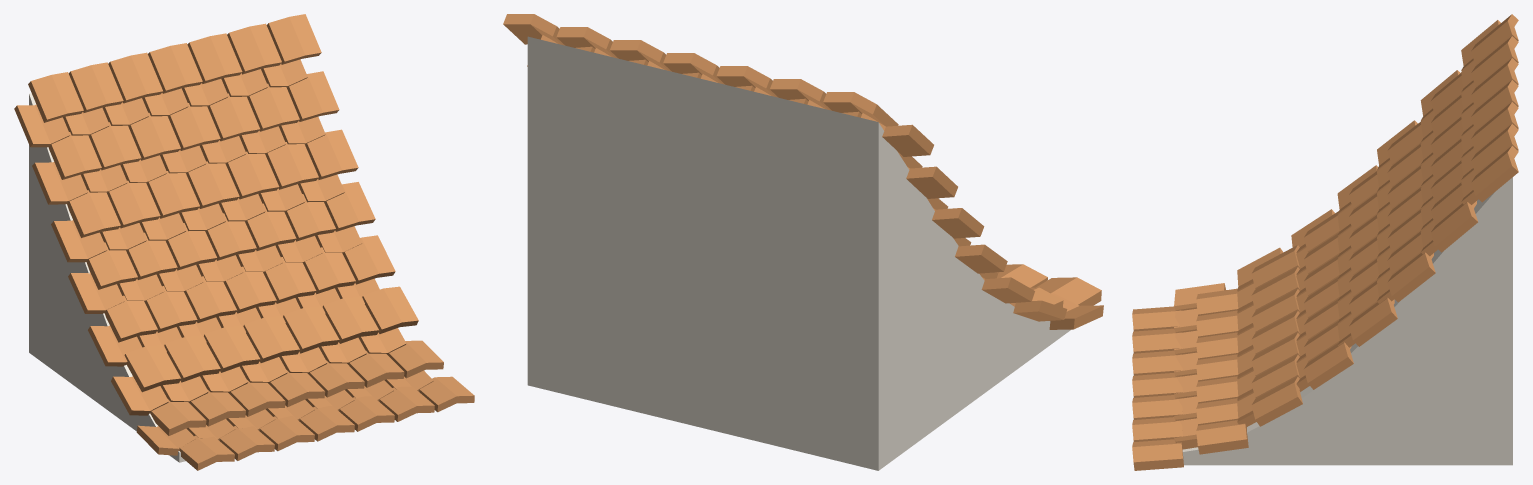
Rendered from RoofEdge.fbx.
3 renders of one model, left to right at view 1: azimuth 30°, elevation 25°; view 2: azimuth 150°, elevation 25°; view 3: azimuth 270°, elevation 25°, orthographic. The views are drawn at different scales.
Parts seen in each view (by area): view 1: Cube, Cube.013, Cube.007, Cube.002, Cube.005, Cube.011, Cube.009, Cube.015, Cube.017, Cube.001, Cube.006, Cube.008 (+4 smaller); view 2: Cube.002, Cube, Cube.001, Cube.017, Cube.006, Cube.008, Cube.010, Cube.012, Cube.016, Cube.014; view 3: Cube.002, Cube.017, Cube.013, Cube, Cube.015, Cube.011, Cube.007, Cube.005, Cube.009, Cube.016, Cube.014, Cube.010 (+4 smaller).
Boxes of the visible parts, x1=… form: Cube: x1=28, y1=14, x2=321, y2=122; Cube.013: x1=124, y1=286, x2=418, y2=392; Cube.007: x1=67, y1=129, x2=358, y2=237; Cube.002: x1=29, y1=93, x2=355, y2=462; Cube.005: x1=48, y1=71, x2=339, y2=179; Cube.011: x1=104, y1=235, x2=395, y2=342; Cube.009: x1=86, y1=182, x2=375, y2=289; Cube.015: x1=150, y1=340, x2=443, y2=435; Cube.017: x1=179, y1=376, x2=474, y2=470; Cube.001: x1=14, y1=59, x2=307, y2=147; Cube.006: x1=32, y1=116, x2=325, y2=204; Cube.008: x1=51, y1=174, x2=344, y2=262; Cube.002: x1=527, y1=36, x2=1070, y2=470; Cube: x1=503, y1=14, x2=898, y2=126; Cube.001: x1=541, y1=35, x2=933, y2=156; Cube.017: x1=997, y1=264, x2=1101, y2=305; Cube.006: x1=906, y1=166, x2=957, y2=198; Cube.008: x1=932, y1=208, x2=984, y2=238; Cube.010: x1=955, y1=244, x2=1007, y2=273; Cube.012: x1=981, y1=277, x2=1034, y2=303; Cube.016: x1=1049, y1=292, x2=1103, y2=329; Cube.014: x1=1010, y1=300, x2=1067, y2=321; Cube.002: x1=1182, y1=177, x2=1512, y2=465; Cube.017: x1=1132, y1=306, x2=1183, y2=470; Cube.013: x1=1251, y1=245, x2=1302, y2=426; Cube: x1=1471, y1=14, x2=1518, y2=202; Cube.015: x1=1196, y1=288, x2=1248, y2=454; Cube.011: x1=1304, y1=211, x2=1353, y2=389; Cube.007: x1=1387, y1=121, x2=1435, y2=302; Cube.005: x1=1430, y1=73, x2=1477, y2=252; Cube.009: x1=1349, y1=170, x2=1397, y2=346; Cube.016: x1=1174, y1=283, x2=1225, y2=449; Cube.014: x1=1237, y1=247, x2=1283, y2=427; Cube.010: x1=1337, y1=165, x2=1378, y2=347.
Bounding box in the file's own units: 228 × 201 × 227.
